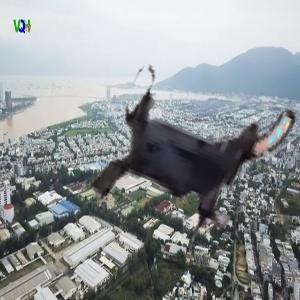drone: (83, 51, 293, 261)
